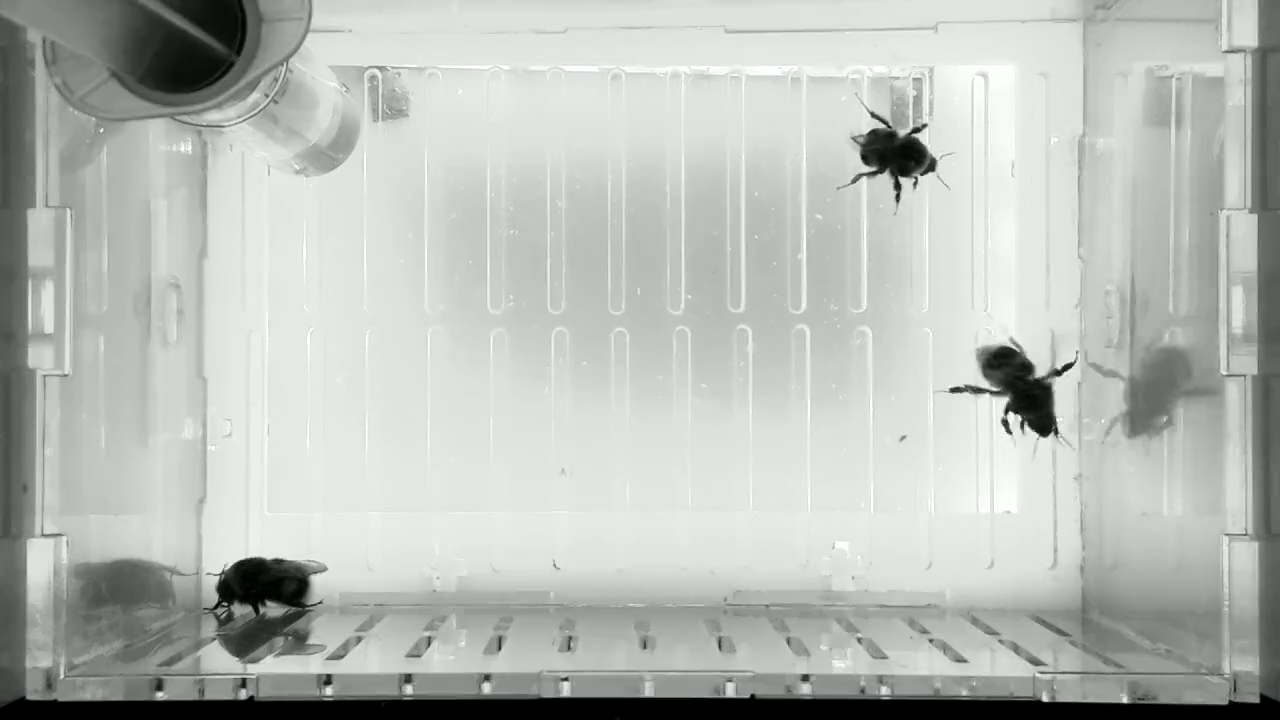bee_alive: (930, 322, 1085, 461), (831, 87, 959, 220), (199, 553, 329, 621)
feeder: (202, 44, 367, 183)
